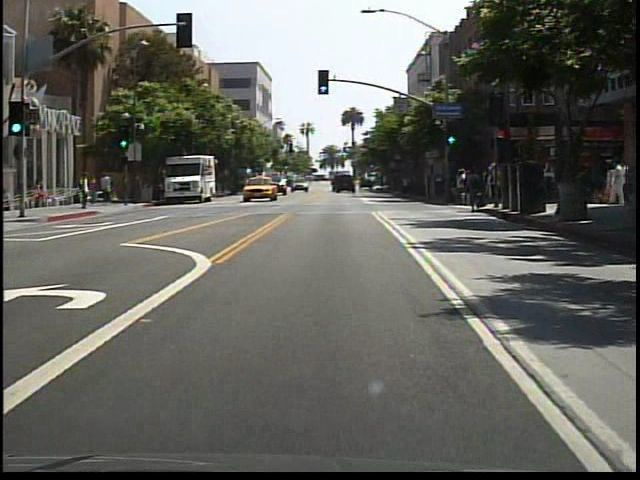person: (99, 170, 116, 206), (79, 171, 94, 211), (89, 174, 101, 206), (37, 178, 50, 207)
